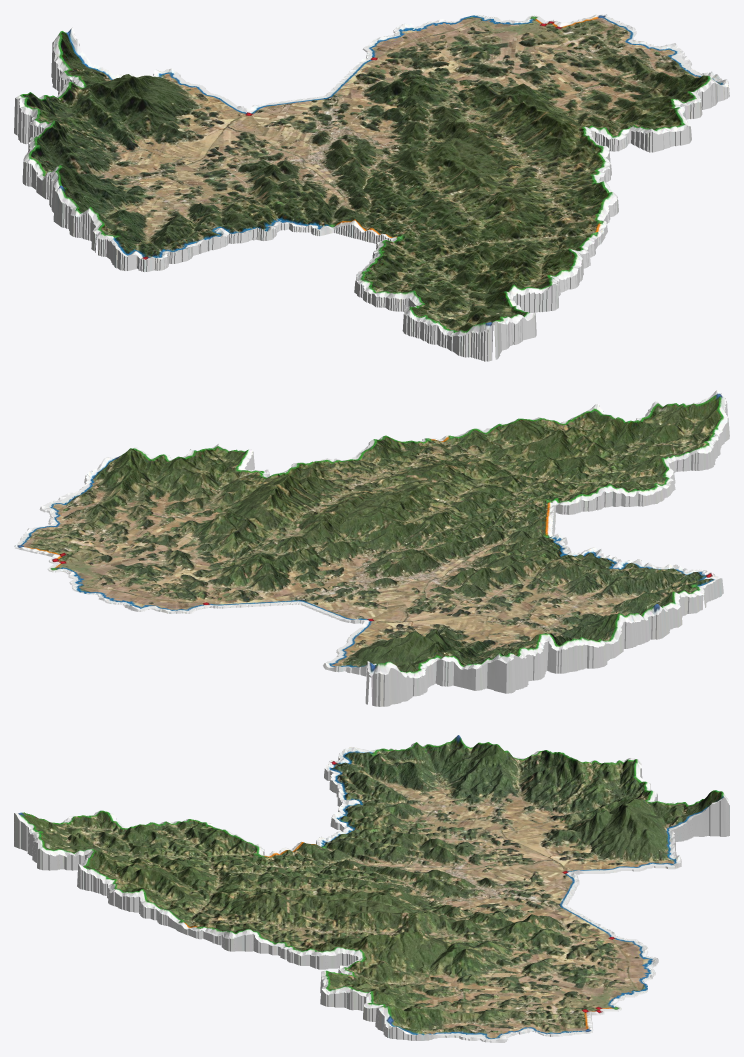
3 renders of one model, top to bottom at view 1: azimuth 30°, elevation 25°; view 2: azimuth 150°, elevation 25°; view 3: azimuth 270°, elevation 25°, orthographic. The views are drawn at different scales.
Bounding box in the file's own units: 0.9998 × 0.0652 × 1.08.
1 material, 1 textured.
